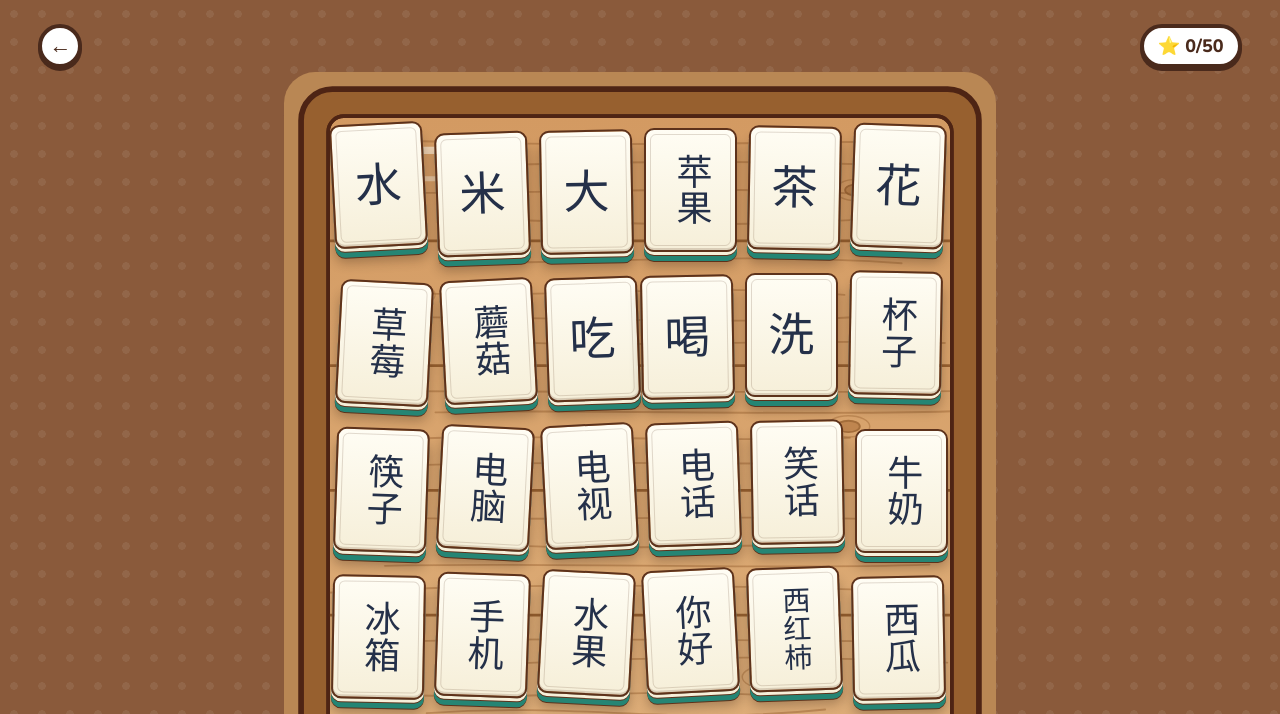
it: Mesa vista desde arriba › Escape con una ficha abierta cierra solo la ficha
This screenshot has width=1280, height=714.
Click the button "水" at (379, 185), box [329,121,428,250]
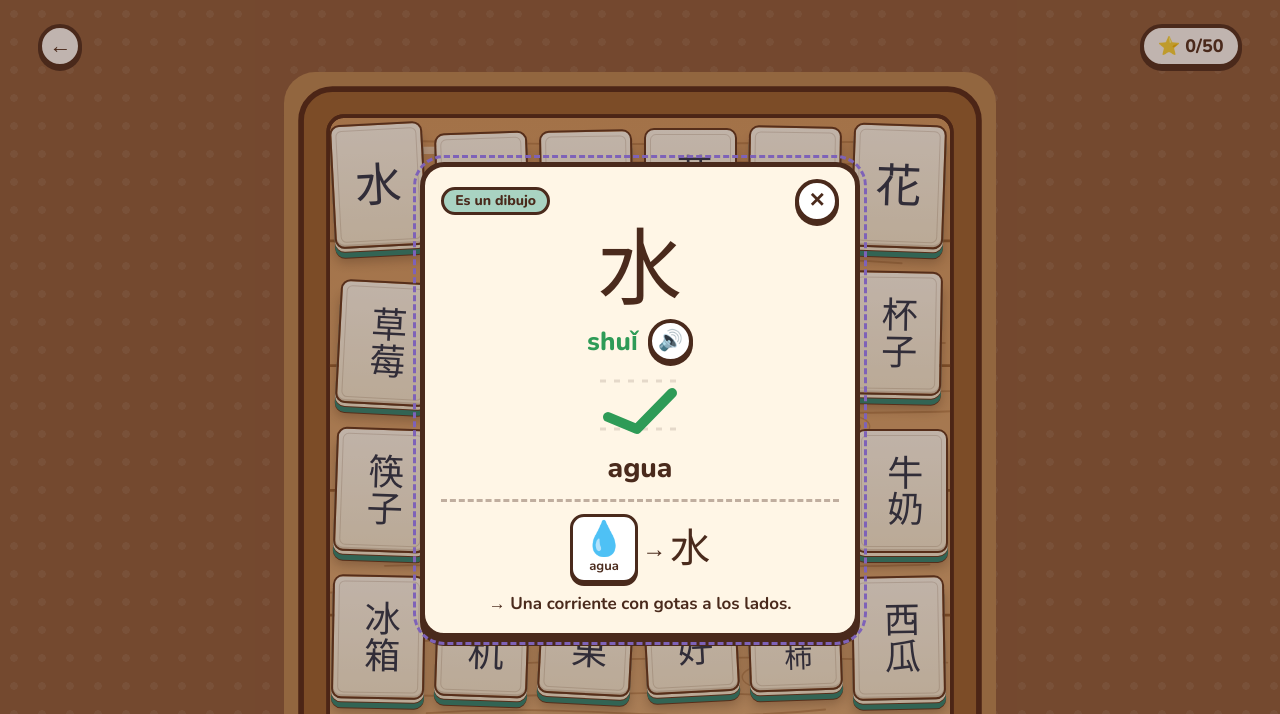
Press Escape
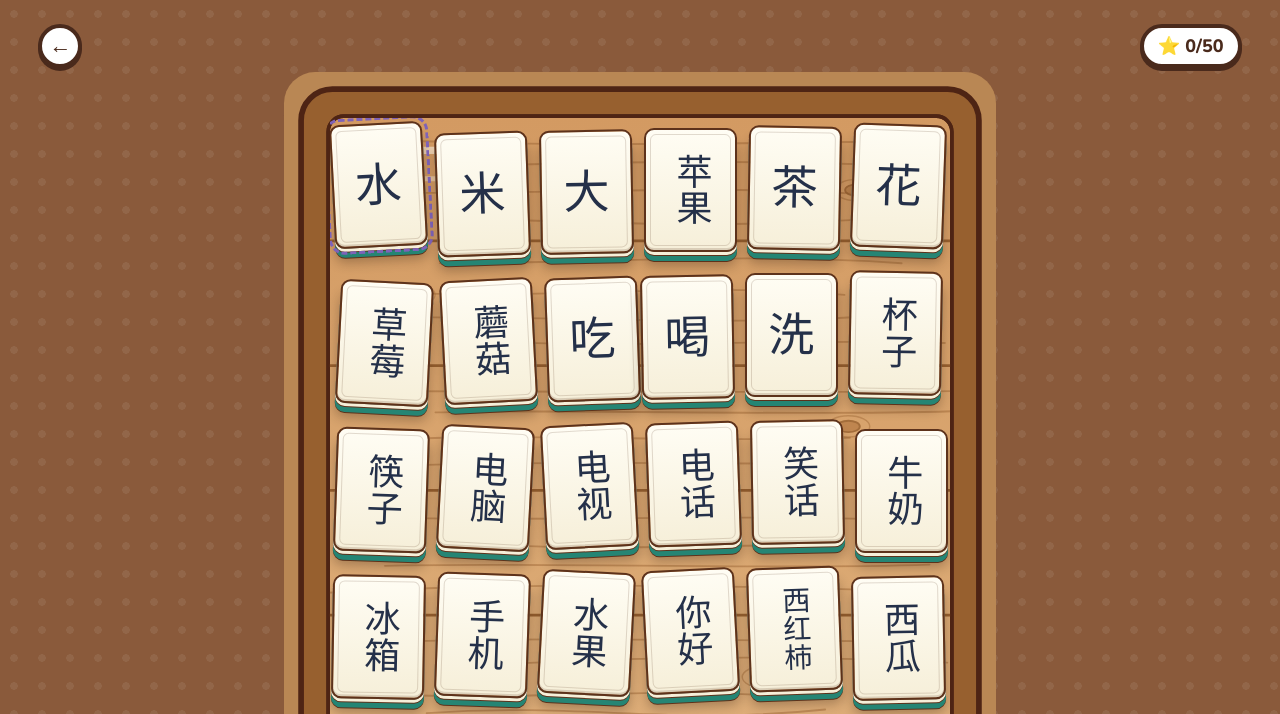
Check: the dialog is gone
